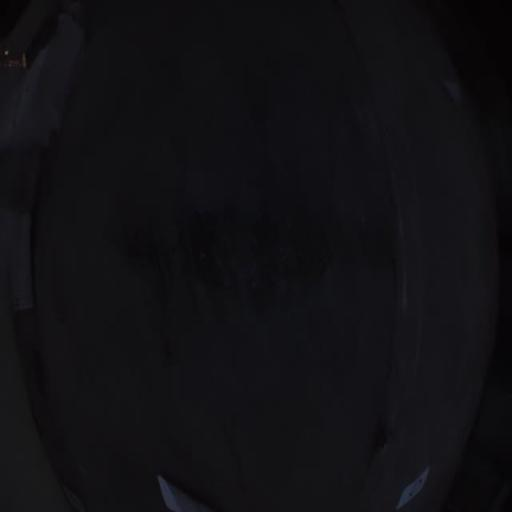G: (396, 465, 430, 510)
